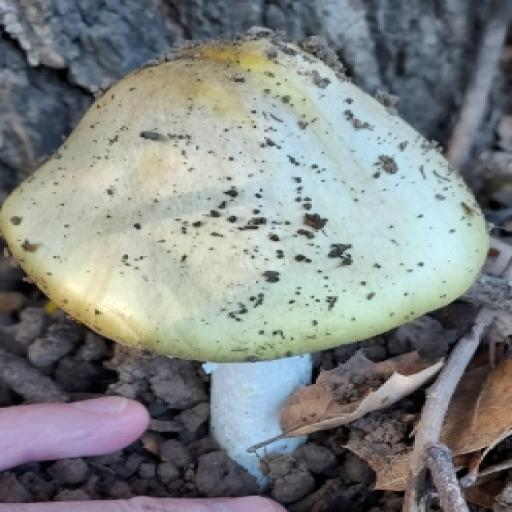Death Cap: (0, 0, 512, 505)
